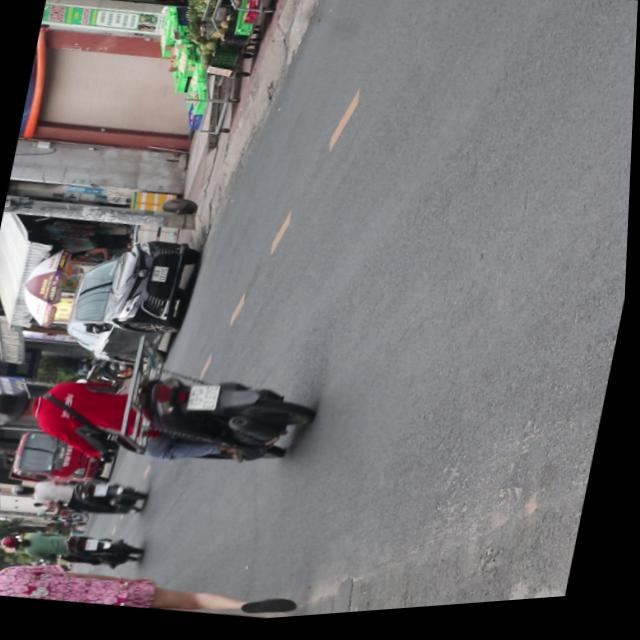licenseplate: (0, 332, 323, 496)
motorcyclist: (0, 385, 42, 423)
nohelmet: (190, 383, 225, 415)
